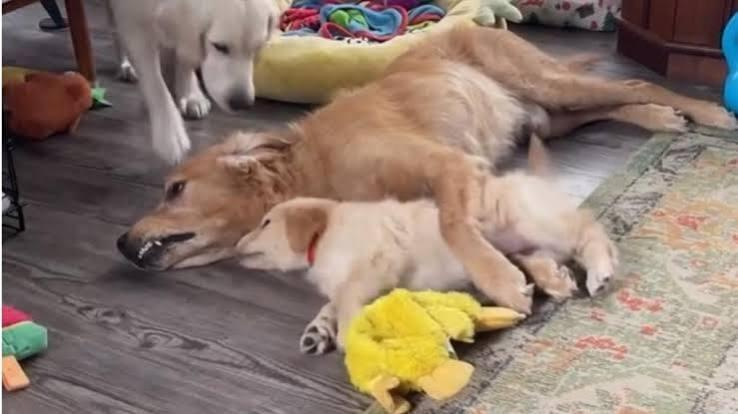adult_dog: (116, 18, 738, 316), (104, 0, 290, 162)
puppy-dog: (232, 146, 620, 355)
